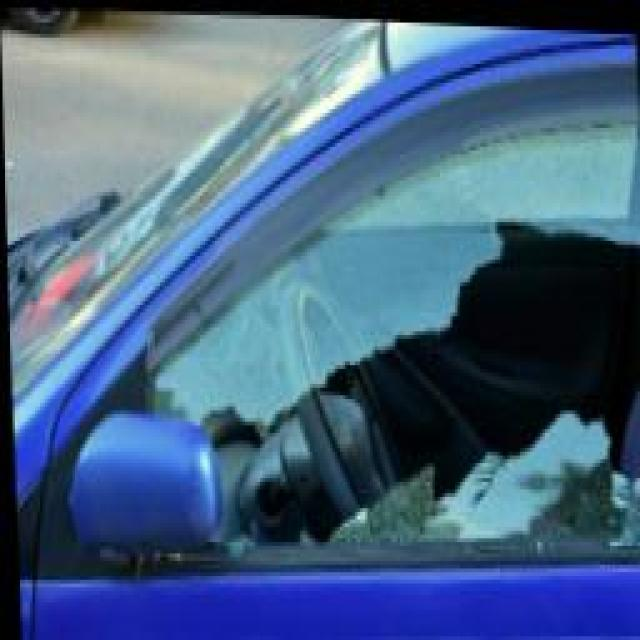Door: (228, 109, 640, 640)
